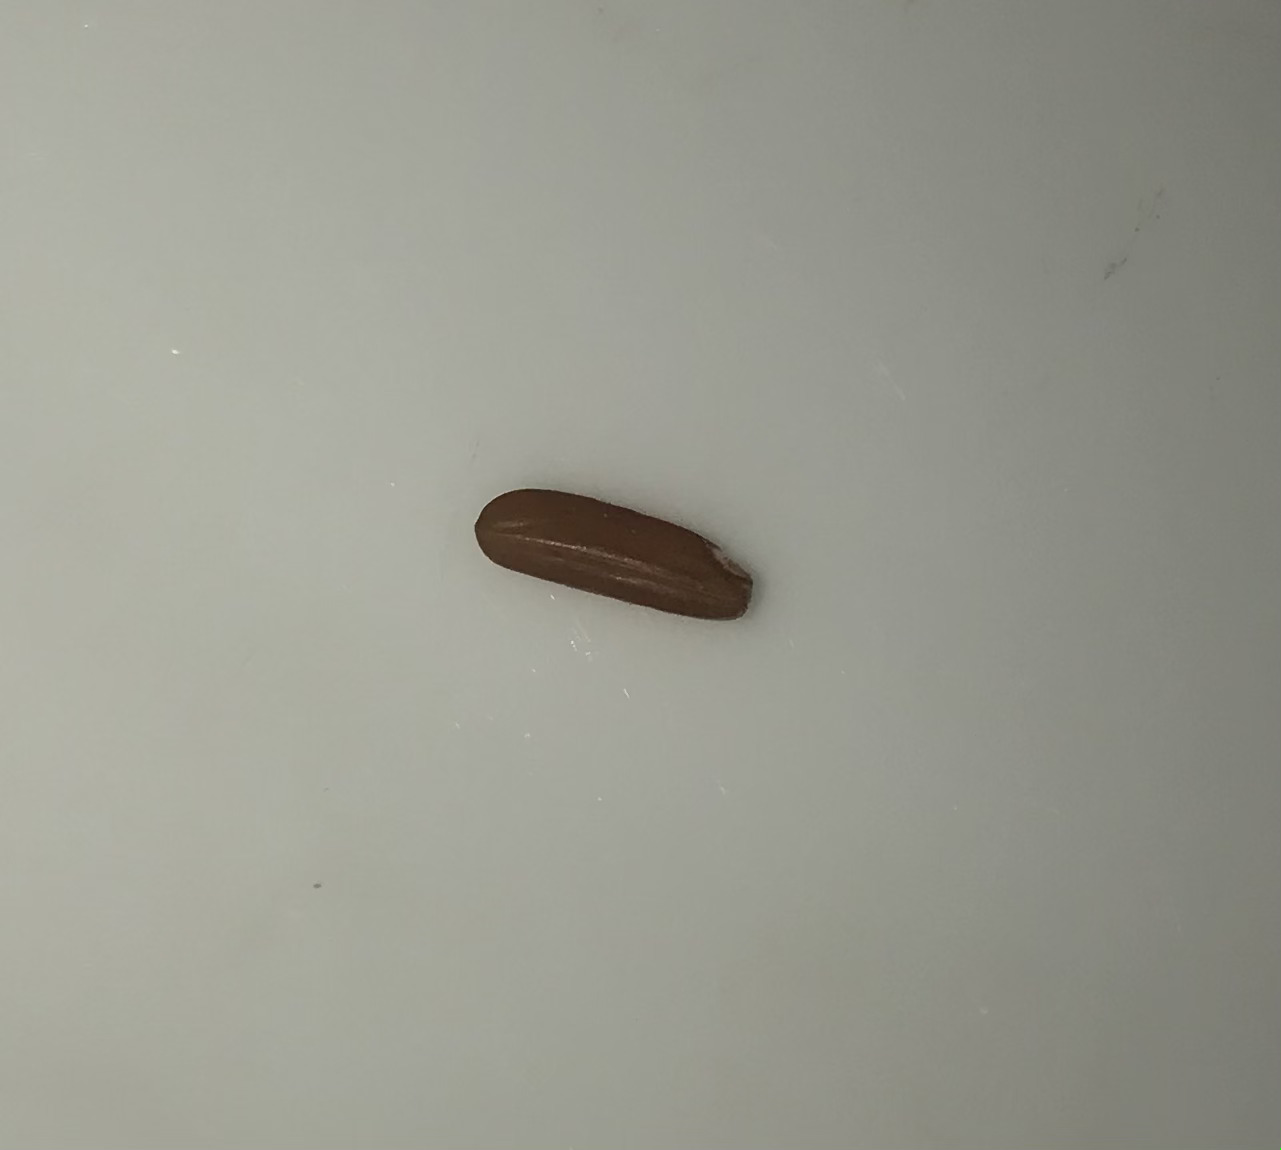Gao Huyet Rong: (472, 478, 761, 633)
